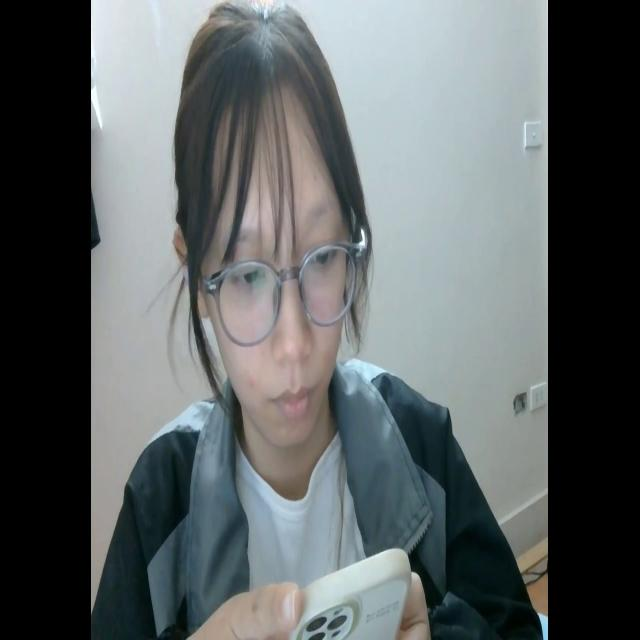phone: (264, 538, 413, 640)
student: (108, 0, 534, 640)
